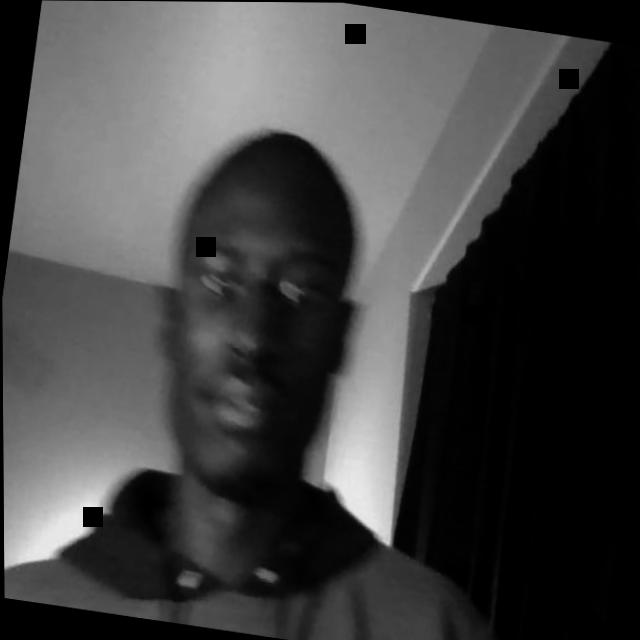NO-Mask: (151, 182, 360, 515)
